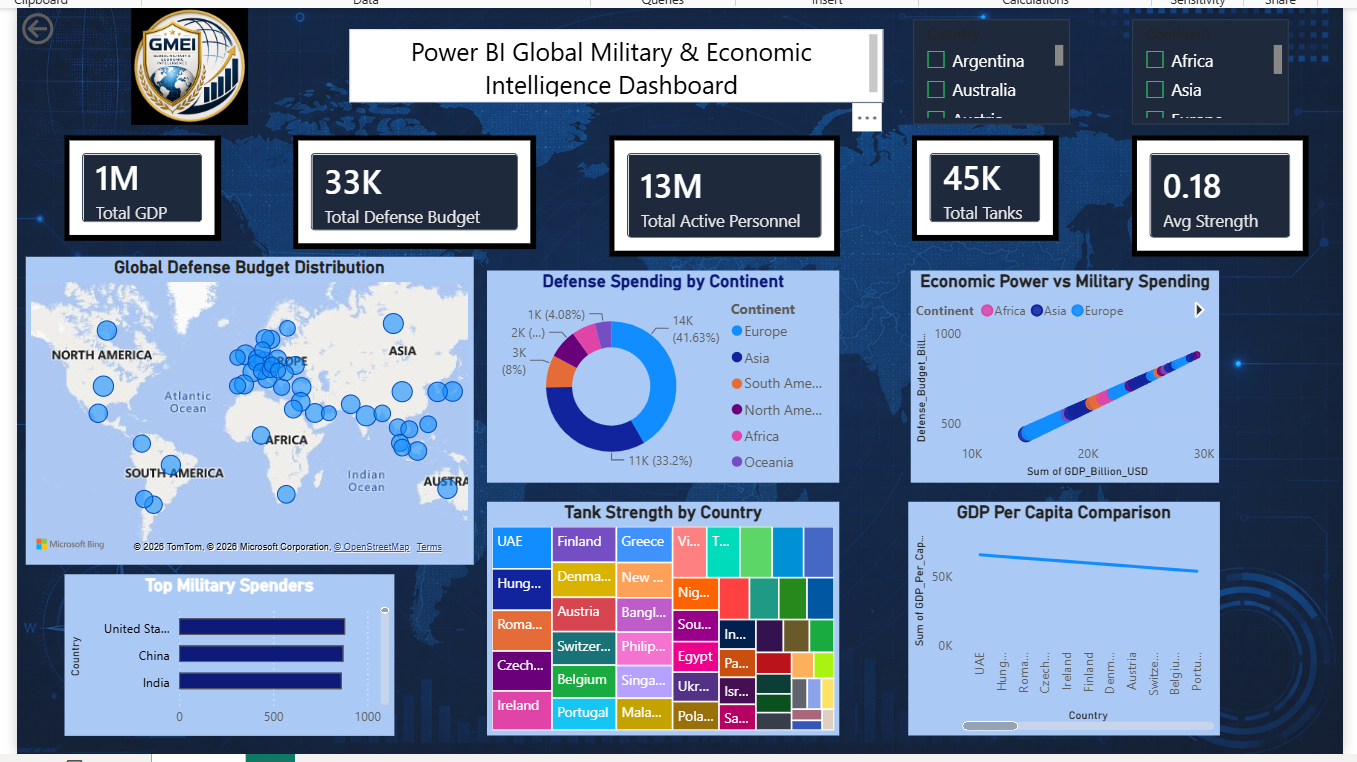

What the dashboard file says about the page in this screenshot:
{"tool":"powerbi","page":{"name":"Page 1","canvas":[1280,720],"ordinal":0},"visuals":[{"type":"cardVisual","fields":{"Data":["Military_Economy_Data.Total GDP"]},"box":[45.3,123.5,150.9,101.5],"z":0},{"type":"cardVisual","fields":{"Data":["Military_Economy_Data.Total Defense Budget"]},"box":[266.2,123.5,234.6,109.8],"z":1000},{"type":"cardVisual","fields":{"Data":["Military_Economy_Data.Total Active Personnel"]},"box":[571.5,123.5,222.3,116.6],"z":2000},{"type":"cardVisual","fields":{"Data":["Military_Economy_Data.Total Tanks"]},"box":[864.2,123.5,141.3,101.5],"z":3000},{"type":"cardVisual","fields":{"Data":["Military_Economy_Data.Avg Strength"]},"box":[1075.8,123.5,170.2,116.6],"z":4000},{"type":"slicer","fields":{"Values":["Military_Economy_Data.Country"]},"box":[864.5,11,150.9,101.5],"z":5000},{"type":"slicer","fields":{"Values":["Military_Economy_Data.Continent"]},"box":[1075.8,11,150.9,101.5],"z":6000},{"type":"map","title":"Global Defense Budget Distribution","fields":{"Category":["Military_Economy_Data.Country"],"Size":["Sum(Military_Economy_Data.Defense_Budget_Billion_USD)"]},"box":[45.3,240.1,318.4,296.4],"z":7000},{"type":"actionButton","box":[0,0,100,40],"z":8000},{"type":"donutChart","title":"Defense Spending by Continent","fields":{"Category":["Military_Economy_Data.Continent"],"Y":["Sum(Military_Economy_Data.Defense_Budget_Billion_USD)"]},"box":[453.6,253.4,340.2,205.1],"z":9000},{"type":"barChart","title":"Top Military Spenders","fields":{"Category":["Military_Economy_Data.Country"],"Y":["Sum(Military_Economy_Data.Defense_Budget_Billion_USD)"]},"box":[45.8,546.5,318.5,173.7],"z":10000},{"type":"treemap","title":"Tank Strength by Country","fields":{"Group":["Military_Economy_Data.Country"],"Values":["Sum(Military_Economy_Data.Tanks)"]},"box":[453.6,476.5,340.2,225.6],"z":11000},{"type":"scatterChart","title":"Economic Power vs Military Spending","fields":{"X":["Sum(Military_Economy_Data.GDP_Billion_USD)"],"Y":["Military_Economy_Data.Defense_Budget_Billion_USD"],"Size":["Sum(Military_Economy_Data.Active_Personnel)"],"Series":["Military_Economy_Data.Continent"]},"box":[862.6,253.4,298,205.1],"z":12000},{"type":"lineChart","title":"GDP Per Capita Comparison","fields":{"Category":["Military_Economy_Data.Country"],"Y":["Sum(Military_Economy_Data.GDP_Per_Capita)"]},"box":[860.2,476.5,300.4,225.6],"z":13000},{"type":"textbox","box":[321.4,20,514.3,70],"z":14000},{"type":"image","box":[37.1,0,258.6,112.9],"z":15000}]}

Visuals, with their boxes in screenshot pixels (x1, y1, x2, y2):
cardVisual - Military_Economy_Data.Total GDP: BBox(54, 129, 212, 235)
cardVisual - Military_Economy_Data.Total Defense Budget: BBox(285, 129, 531, 244)
cardVisual - Military_Economy_Data.Total Active Personnel: BBox(605, 129, 837, 251)
cardVisual - Military_Economy_Data.Total Tanks: BBox(911, 129, 1058, 235)
cardVisual - Military_Economy_Data.Avg Strength: BBox(1132, 129, 1310, 251)
slicer - Military_Economy_Data.Country: BBox(911, 12, 1069, 118)
slicer - Military_Economy_Data.Continent: BBox(1132, 12, 1290, 118)
"Global Defense Budget Distribution" map: BBox(54, 251, 387, 561)
actionButton: BBox(7, 0, 112, 42)
"Defense Spending by Continent" donutChart: BBox(481, 265, 837, 479)
"Top Military Spenders" barChart: BBox(55, 571, 388, 753)
"Tank Strength by Country" treemap: BBox(481, 498, 837, 734)
"Economic Power vs Military Spending" scatterChart: BBox(909, 265, 1220, 479)
"GDP Per Capita Comparison" lineChart: BBox(906, 498, 1220, 734)
textbox: BBox(343, 21, 881, 94)
image: BBox(46, 0, 316, 118)
